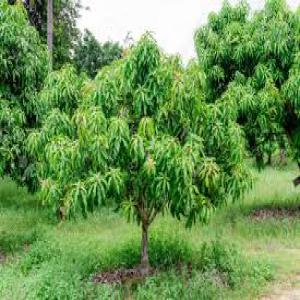Tree: (66, 28, 251, 272)
